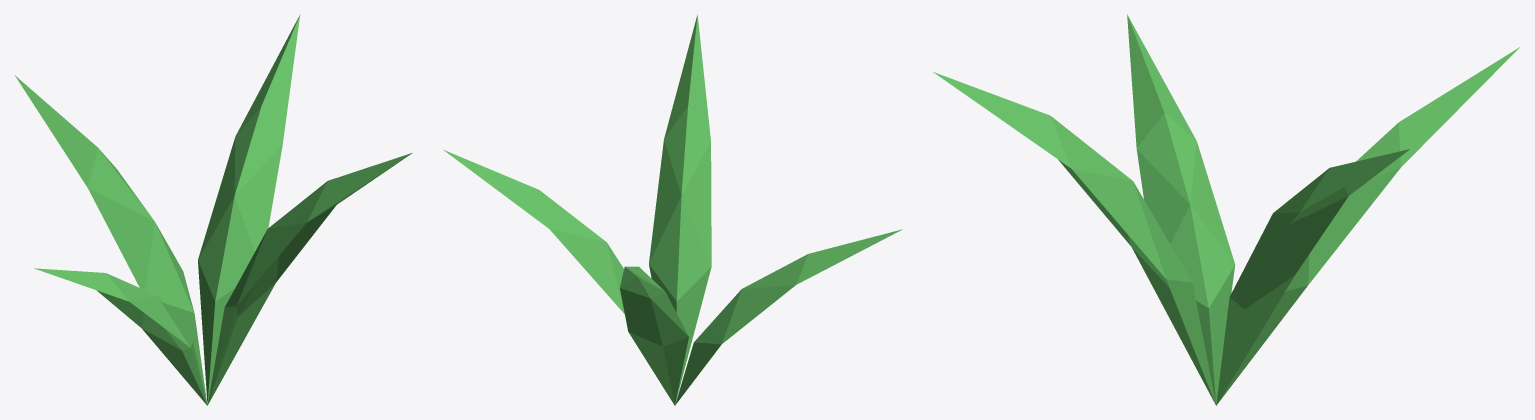
The model's file is Hilly_Prop_Grass_Clump_2.glb.
3 views of the same model, side by side, from view 1: azimuth 30°, elevation 25°; view 2: azimuth 150°, elevation 25°; view 3: azimuth 270°, elevation 25° (orthographic). The views are drawn at different scales.
Visible parts, largest first — view 1: Hilly_Prop_Grass_Clump_2; view 2: Hilly_Prop_Grass_Clump_2; view 3: Hilly_Prop_Grass_Clump_2.
Boxes of the visible parts, x1,y1,x2,y2 form: Hilly_Prop_Grass_Clump_2: (15, 14, 412, 405); Hilly_Prop_Grass_Clump_2: (443, 14, 902, 405); Hilly_Prop_Grass_Clump_2: (932, 14, 1519, 405).
Size of the model in its own units: 0.1618 by 0.1278 by 0.1753.
